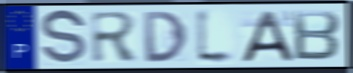A: (239, 9, 296, 64)
B: (291, 9, 342, 63)
D: (141, 9, 190, 64)
L: (194, 6, 238, 67)
R: (89, 10, 141, 65)
S: (40, 8, 89, 68)
